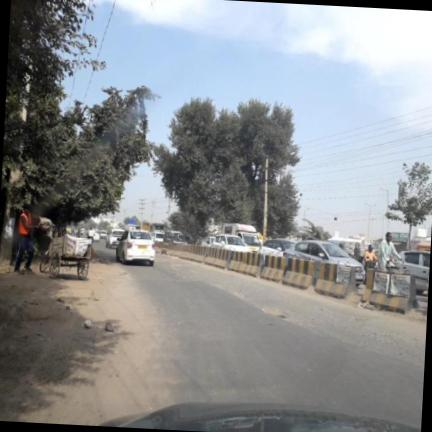Road: (112, 256, 425, 426)
